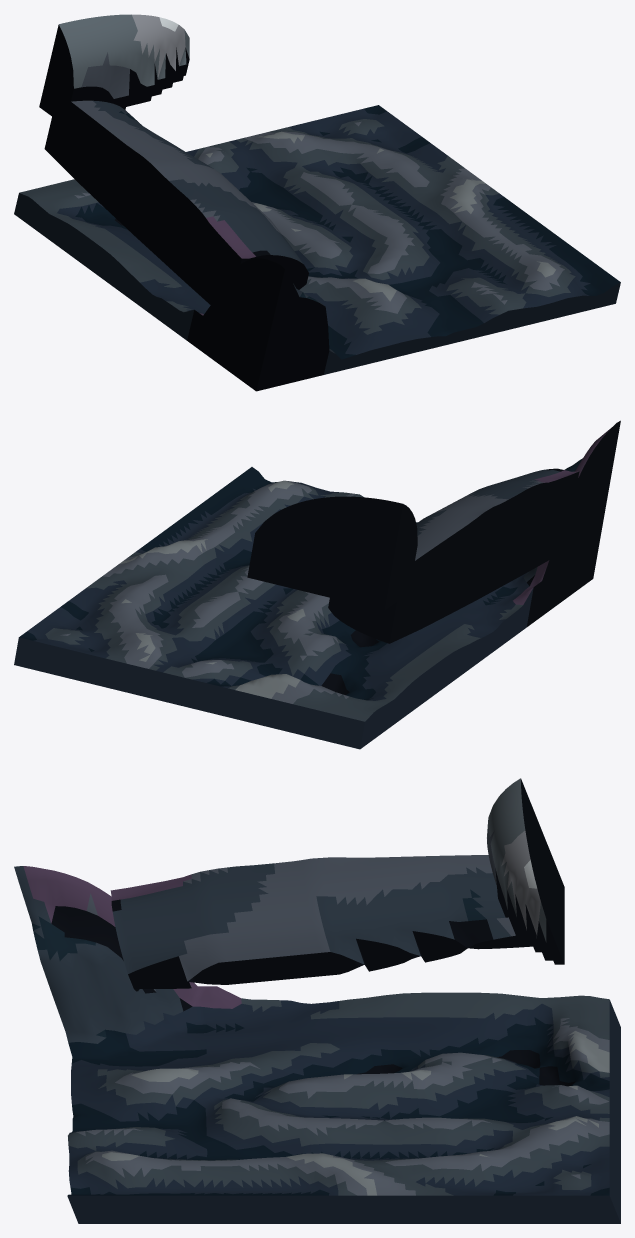
Rendered from gyges_stalk_tr.glb.
3 renders of one model, top to bottom at view 1: azimuth 30°, elevation 25°; view 2: azimuth 150°, elevation 25°; view 3: azimuth 270°, elevation 25°, orthographic. The views are drawn at different scales.
Visible parts, largest first — view 1: gyges_stalk_tr; view 2: gyges_stalk_tr; view 3: gyges_stalk_tr.
Part boxes in pixels (x1=…): gyges_stalk_tr: x1=14, y1=14, x2=620, y2=391; gyges_stalk_tr: x1=14, y1=420, x2=620, y2=749; gyges_stalk_tr: x1=14, y1=778, x2=620, y2=1223.
Size of the model in its own units: 24 by 14.19 by 31.33.
